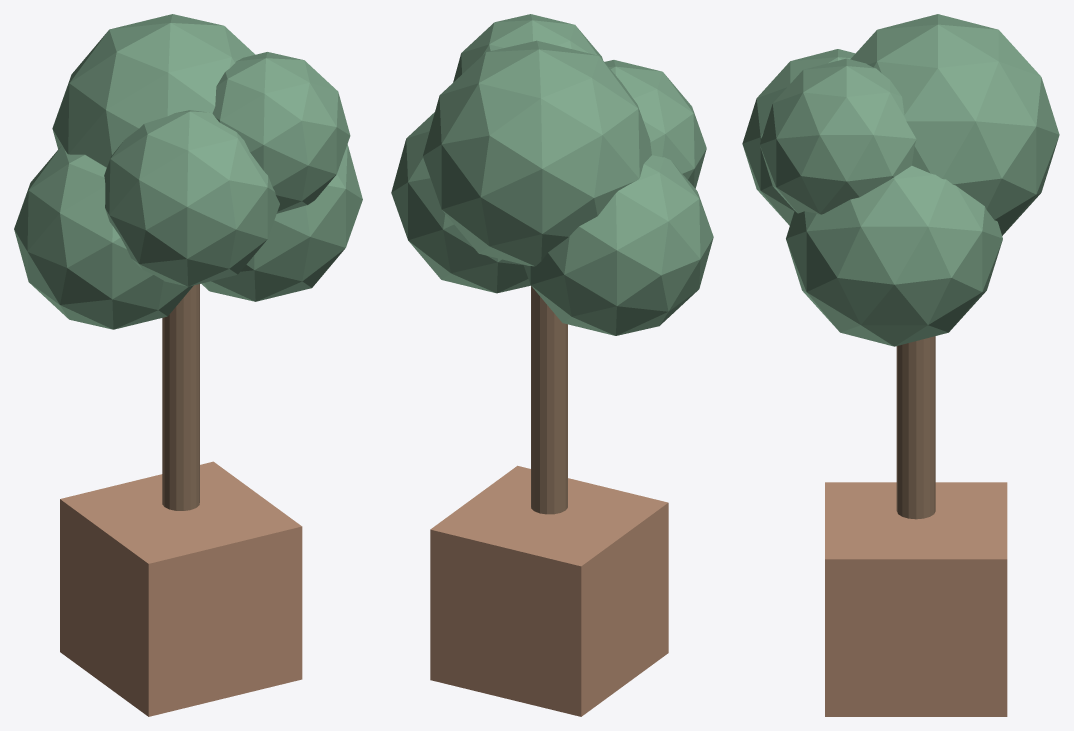
The model's file is plant.glb.
The picture shows the model from 3 angles, left to right: view 1: azimuth 30°, elevation 25°; view 2: azimuth 150°, elevation 25°; view 3: azimuth 270°, elevation 25°; orthographic projection. The views are drawn at different scales.
Visible parts, largest first — view 1: Pot, Leaf4, Leaf3, Leaf1, Leaf5, Leaf2, Trunk; view 2: Pot, Leaf3, Leaf1, Leaf2, Trunk, Leaf4, Leaf5; view 3: Pot, Leaf2, Leaf3, Leaf5, Trunk, Leaf4.
Boxes of the visible parts, x1,y1,x2,y2 form: Pot: [60, 461, 302, 716]; Leaf4: [104, 110, 279, 286]; Leaf3: [52, 14, 254, 167]; Leaf1: [14, 146, 193, 329]; Leaf5: [212, 52, 350, 213]; Leaf2: [201, 144, 362, 301]; Trunk: [162, 284, 199, 510]; Pot: [430, 465, 668, 716]; Leaf3: [423, 40, 651, 266]; Leaf1: [523, 155, 713, 335]; Leaf2: [391, 112, 530, 293]; Trunk: [531, 286, 567, 514]; Leaf4: [604, 60, 706, 188]; Leaf5: [453, 14, 602, 82]; Pot: [825, 482, 1007, 716]; Leaf2: [786, 166, 1002, 346]; Leaf3: [850, 14, 1059, 235]; Leaf5: [760, 58, 916, 214]; Trunk: [896, 336, 935, 519]; Leaf4: [742, 49, 855, 225].
Size of the model in its own units: 0.85 by 1.66 by 0.73.
